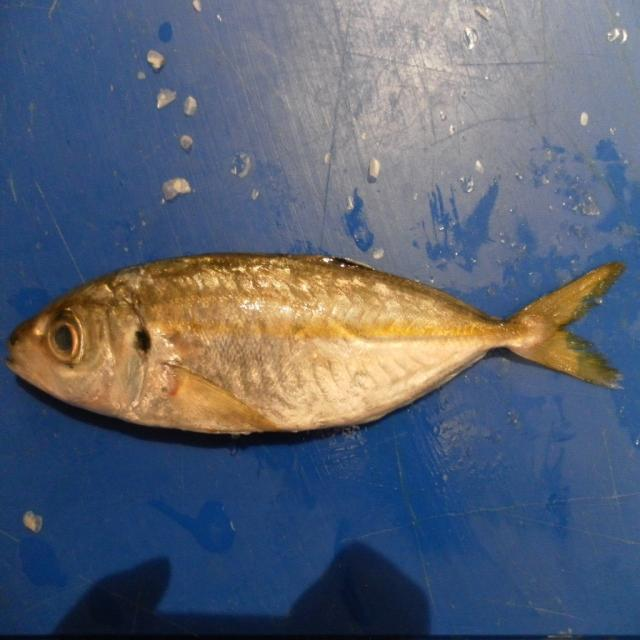Hourse-Mackerel-istavrit-: (7, 249, 626, 442)
